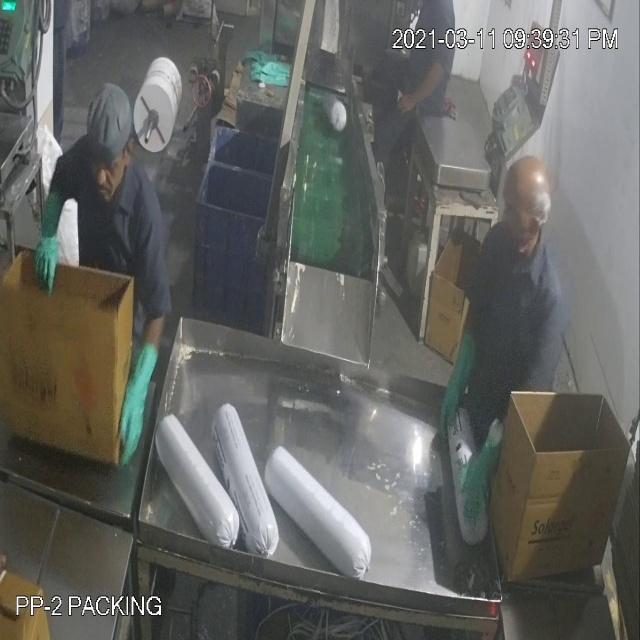Guantes: (108, 339, 164, 468), (440, 323, 480, 437)
Sin_guantes: (392, 60, 454, 115)
